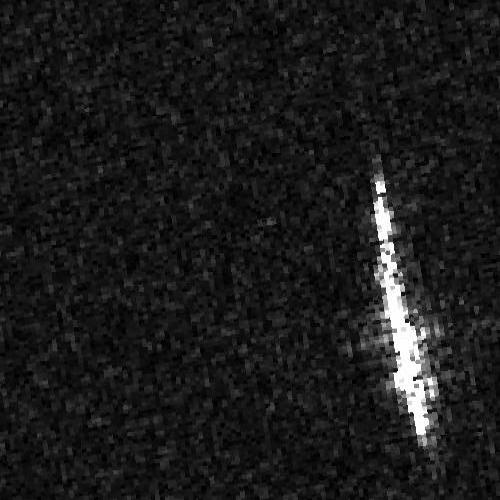ship: (372, 176, 432, 446)
